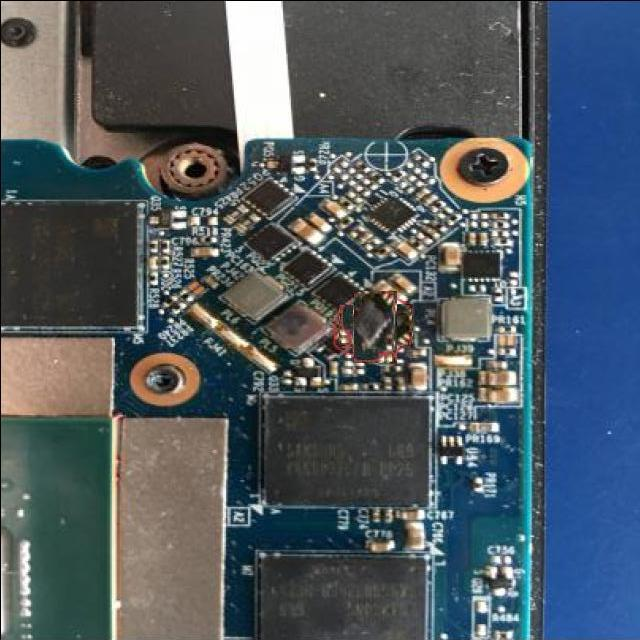damged: (346, 297, 405, 356)
